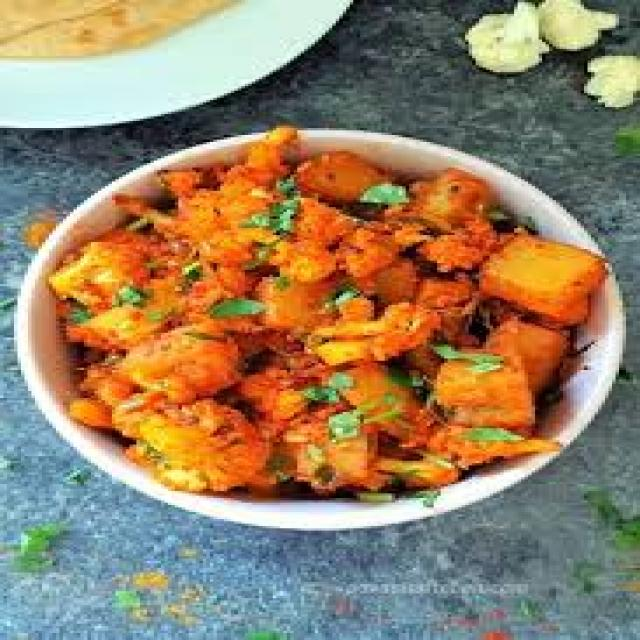Aloo Gobi: (57, 152, 615, 495)
